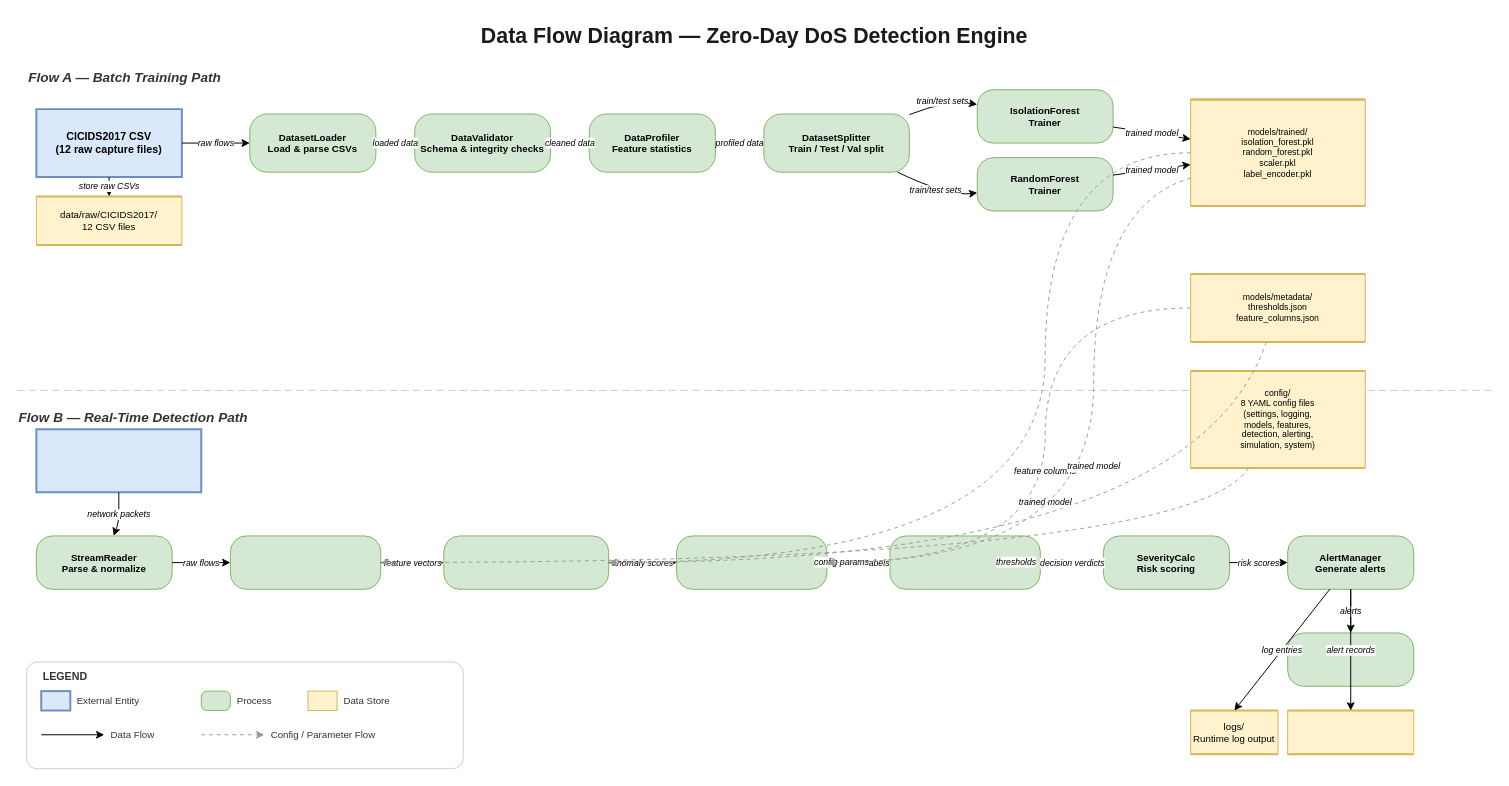
This 1509x786 diagram has some shape labels left out. The box of each missing label's shape, as (x1, y1, x2, y2) in pixels:
alerts/ Runtime alert output: (1287, 710, 1414, 754)
AnomalyDetection Isolation Forest inference: (443, 535, 609, 589)
Classification Random Forest label: (676, 535, 827, 589)
Dashboard Visualize results: (1287, 632, 1414, 686)
DecisionLogic Threshold evaluation: (889, 535, 1040, 589)
DetectionEngine Orchestrate pipeline: (229, 535, 381, 589)
StreamSimulator Synthetic traffic generator: (35, 428, 202, 493)
